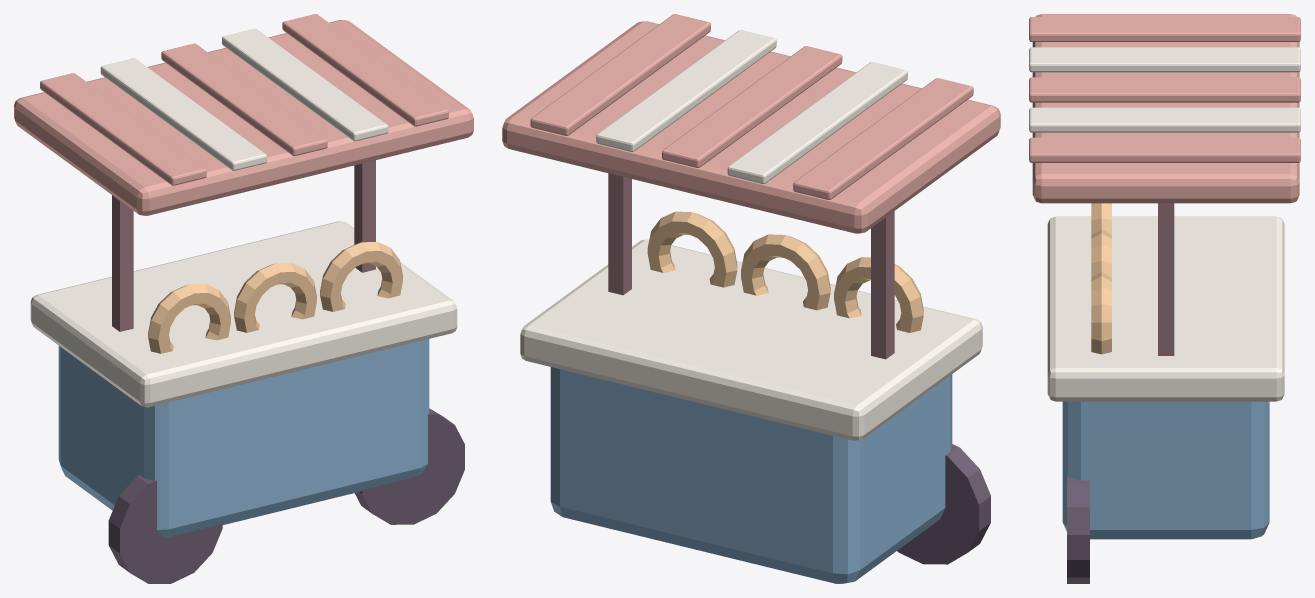
Rendered from Obstacle_Cart.glb.
The picture shows the model from 3 angles, left to right: view 1: azimuth 30°, elevation 25°; view 2: azimuth 150°, elevation 25°; view 3: azimuth 270°, elevation 25°; orthographic projection. The views are drawn at different scales.
Visible parts, largest first — view 1: Cart_body, Cart_counter, Cart_canopy, Cart_wheel_-0.62, Cart_stripe_1, Cart_stripe_0, Cart_stripe_2, Cart_stripe_4, Cart_stripe_3, Cart_wheel_0.62, Simit_0, Simit_2 (+3 smaller); view 2: Cart_body, Cart_counter, Cart_canopy, Cart_stripe_1, Cart_stripe_2, Cart_stripe_3, Cart_stripe_0, Cart_stripe_4, Cart_wheel_-0.62, Simit_1, Simit_2, Cart_post_-0.62 (+2 smaller); view 3: Cart_counter, Cart_body, Cart_canopy, Cart_stripe_2, Cart_stripe_3, Cart_stripe_1, Cart_stripe_4, Cart_stripe_0, Cart_post_0.62, Cart_wheel_0.62, Simit_2, Simit_1 (+1 smaller).
Boxes of the visible parts, box(x1,y1,x2,y2) form: Cart_body: box(58, 339, 429, 537); Cart_counter: box(30, 221, 457, 407); Cart_canopy: box(14, 20, 473, 215); Cart_wheel_-0.62: box(108, 475, 222, 583); Cart_stripe_1: box(100, 58, 267, 170); Cart_stripe_0: box(40, 73, 206, 185); Cart_stripe_2: box(161, 43, 327, 156); Cart_stripe_4: box(282, 14, 448, 126); Cart_stripe_3: box(222, 28, 388, 141); Cart_wheel_0.62: box(354, 408, 464, 524); Simit_0: box(148, 283, 230, 353); Simit_2: box(320, 241, 402, 311); Cart_body: box(550, 367, 952, 583); Cart_counter: box(520, 239, 982, 440); Cart_canopy: box(502, 21, 1000, 233); Cart_stripe_1: box(727, 62, 907, 183); Cart_stripe_2: box(662, 46, 842, 167); Cart_stripe_3: box(596, 30, 776, 151); Cart_stripe_0: box(793, 78, 973, 199); Cart_stripe_4: box(530, 14, 710, 135); Cart_wheel_-0.62: box(897, 444, 990, 564); Simit_1: box(741, 234, 830, 310); Simit_2: box(647, 211, 737, 287); Cart_post_-0.62: box(871, 211, 894, 359); Cart_counter: box(1047, 216, 1284, 401); Cart_body: box(1062, 401, 1269, 539); Cart_canopy: box(1032, 14, 1299, 203); Cart_stripe_2: box(1029, 77, 1300, 102); Cart_stripe_3: box(1029, 107, 1300, 132); Cart_stripe_1: box(1029, 47, 1300, 72); Cart_stripe_4: box(1029, 137, 1300, 162); Cart_stripe_0: box(1029, 17, 1300, 41); Cart_post_0.62: box(1158, 203, 1174, 355); Cart_wheel_0.62: box(1067, 476, 1089, 583); Simit_2: box(1091, 272, 1111, 354); Simit_1: box(1091, 229, 1111, 277).
Bounding box in the file's own units: 1.77 × 2.07 × 1.18.
